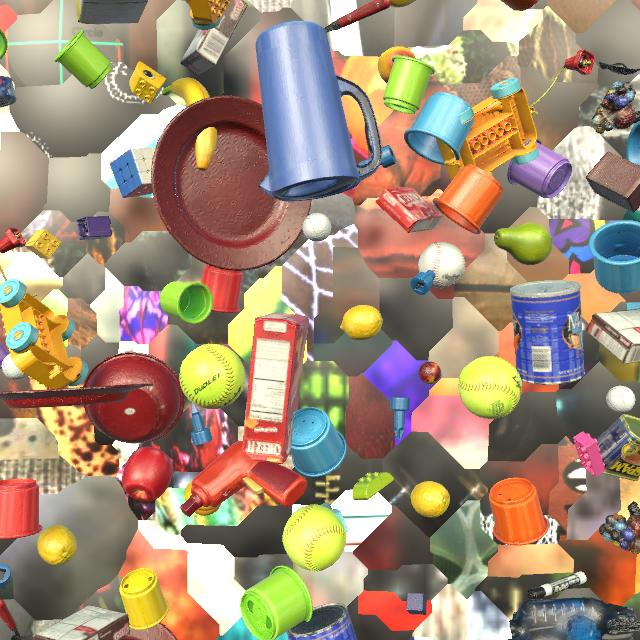ycb_002_master_chef_can: (510, 280, 585, 385), (286, 603, 357, 640)
ycb_003_cracker_box: (242, 313, 309, 464)
ycb_004_sugar_box: (75, 0, 148, 24)
ycb_007_tuna_fish_can: (0, 76, 16, 108)
ycb_008_pudding_box: (180, 0, 248, 76), (33, 605, 131, 640), (585, 309, 640, 364)
ycb_009_gelatin_box: (375, 187, 443, 233)
ycb_010_potted_meat_can: (597, 414, 640, 481)
ycb_011_banana: (162, 78, 217, 171), (390, 0, 416, 7)
ycb_013_apple: (122, 447, 173, 501)
ycb_014_lemon: (37, 525, 77, 565), (340, 305, 383, 340), (411, 481, 450, 518)
ycb_015_peach: (378, 46, 416, 84), (184, 481, 221, 516)
ycb_016_pear: (494, 223, 553, 265), (0, 479, 2, 480)
